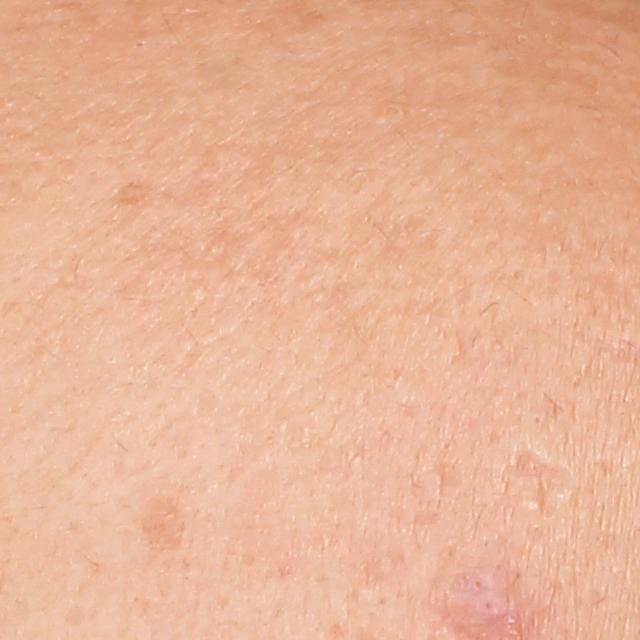atrophic_scar: (501, 451, 579, 500)
comedo: (519, 492, 549, 518), (135, 36, 149, 51)
